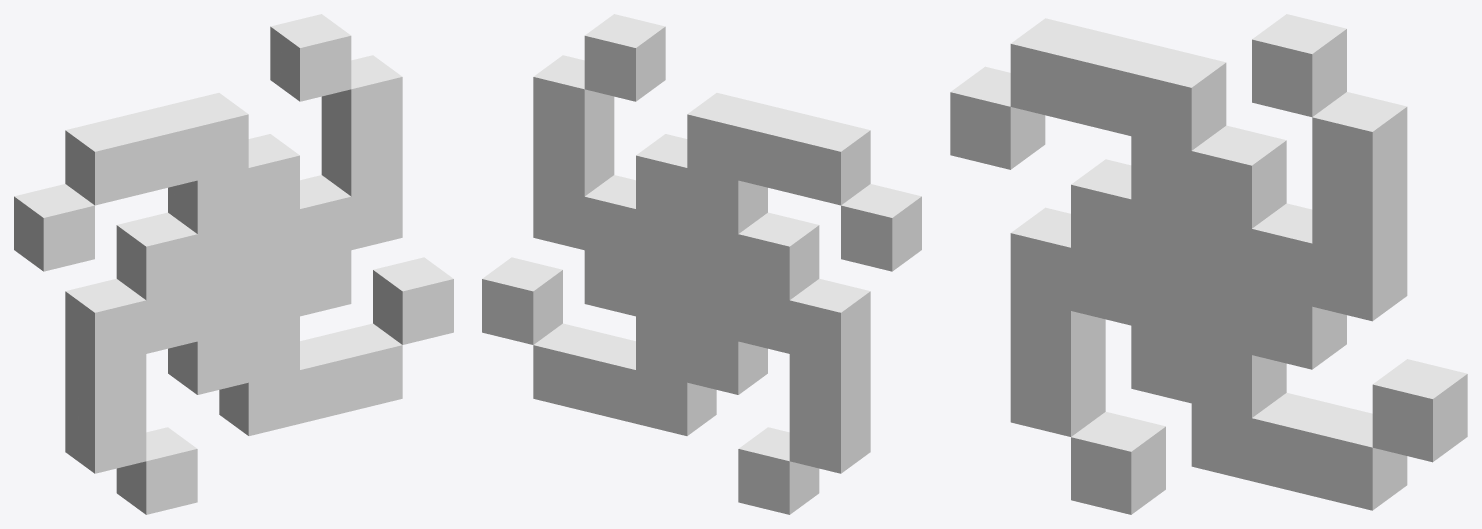
The model's file is Fireball-Large-White.vox.obj.
3 views of the same model, side by side, from view 1: azimuth 30°, elevation 25°; view 2: azimuth 150°, elevation 25°; view 3: azimuth 330°, elevation 25° (orthographic). The views are drawn at different scales.
Bounding box in the file's own units: 0.8 × 0.8 × 0.1.
1 material, 1 textured.
